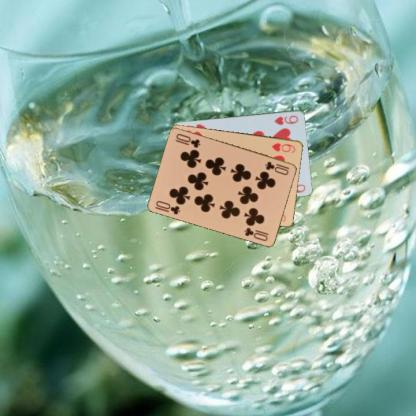10c: (262, 159, 291, 176), (154, 198, 181, 216)
6h: (270, 140, 297, 154)
9h: (272, 113, 299, 126)
